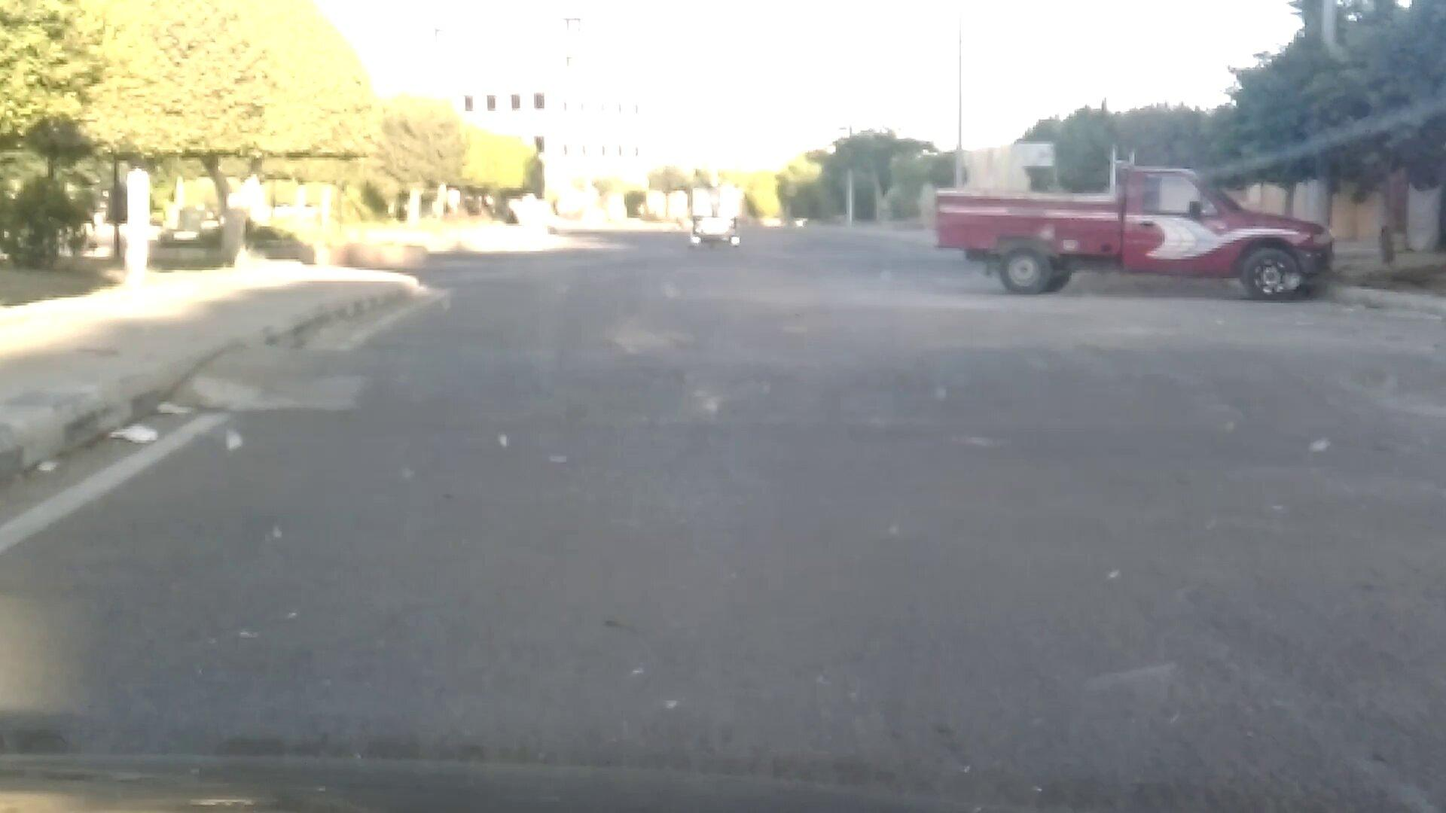Bump: (226, 331, 1446, 463)
